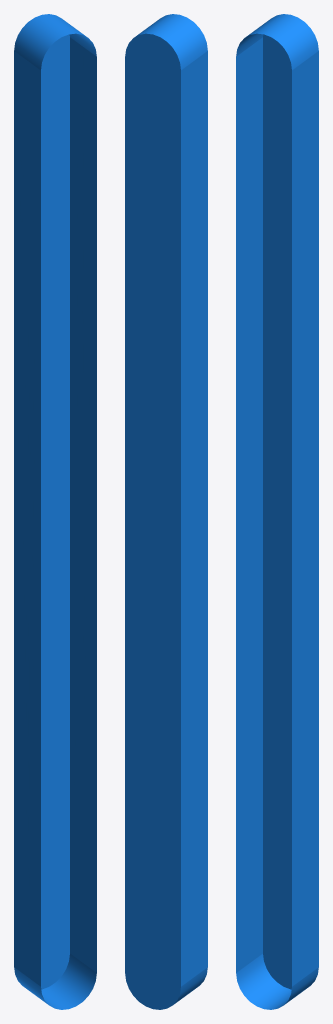
File: original-33.obj
3 renders of one model, left to right at view 1: azimuth 30°, elevation 25°; view 2: azimuth 150°, elevation 25°; view 3: azimuth 330°, elevation 25°, orthographic.
Parts seen in each view (by area): view 1: mesh15/mesh15-geometry/material_1/component_3#mesh15-geometry; view 2: mesh15/mesh15-geometry/material_1/component_3#mesh15-geometry; view 3: mesh15/mesh15-geometry/material_1/component_3#mesh15-geometry.
Boxes of the visible parts, box(x1,y1,x2,y2) form: mesh15/mesh15-geometry/material_1/component_3#mesh15-geometry: box(14, 14, 96, 1009); mesh15/mesh15-geometry/material_1/component_3#mesh15-geometry: box(125, 14, 207, 1009); mesh15/mesh15-geometry/material_1/component_3#mesh15-geometry: box(236, 14, 318, 1009).
Size of the model in its own units: 0.038 by 0.6333 by 0.0317.
